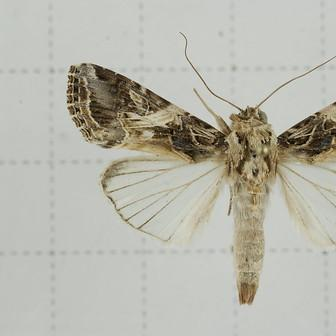Spodoptera litura: (66, 32, 336, 306)
